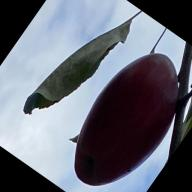Apples: (52, 36, 192, 192)
